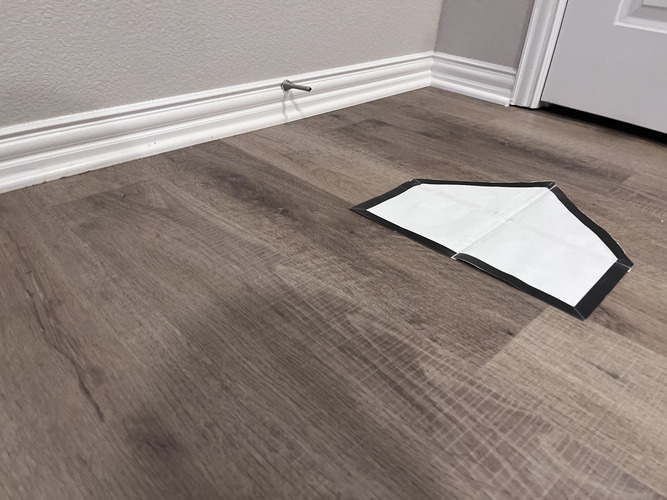homeplate: (351, 177, 632, 322)
